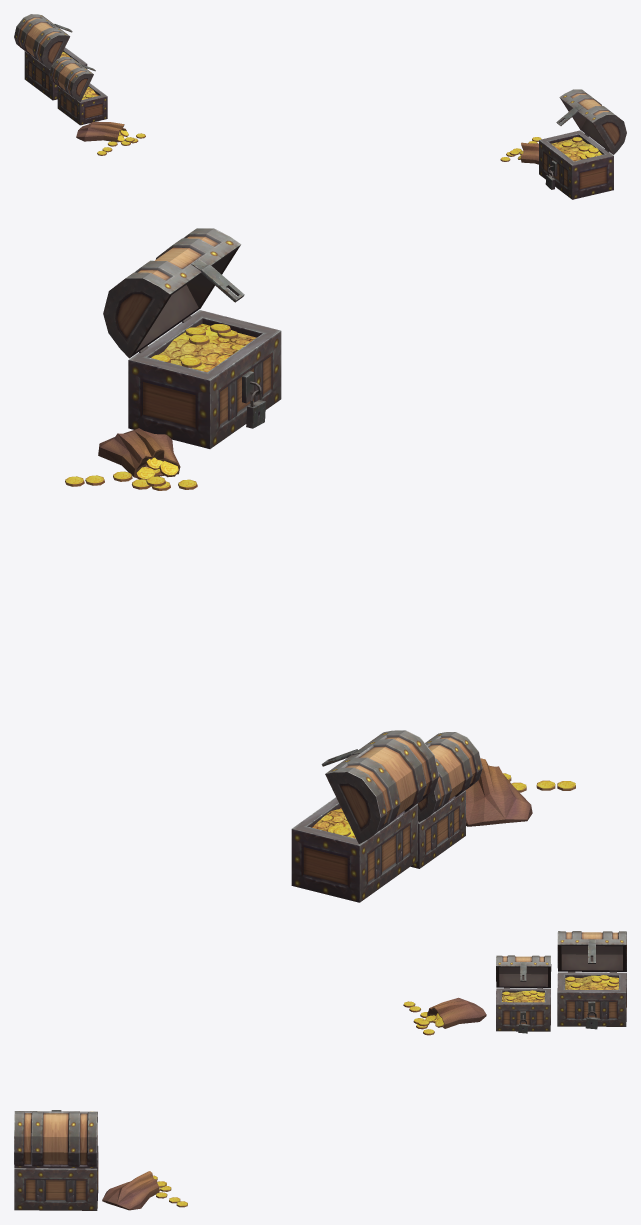
The model's file is Area_06_29.fbx.
3 renders of one model, top to bottom at view 1: azimuth 30°, elevation 25°; view 2: azimuth 150°, elevation 25°; view 3: azimuth 270°, elevation 25°, orthographic. The views are drawn at different scales.
Visible parts, largest first — view 1: Area_06_29; view 2: Area_06_29; view 3: Area_06_29.
Part boxes in pixels (x1,y1,x2,y2): Area_06_29: (14, 14, 626, 199); Area_06_29: (65, 228, 575, 902); Area_06_29: (14, 931, 626, 1210).
Bounding box in the file's own units: 1165 × 237 × 1406.
